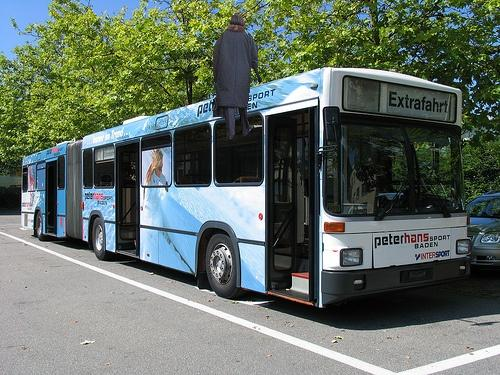tampered: (213, 14, 262, 139)
